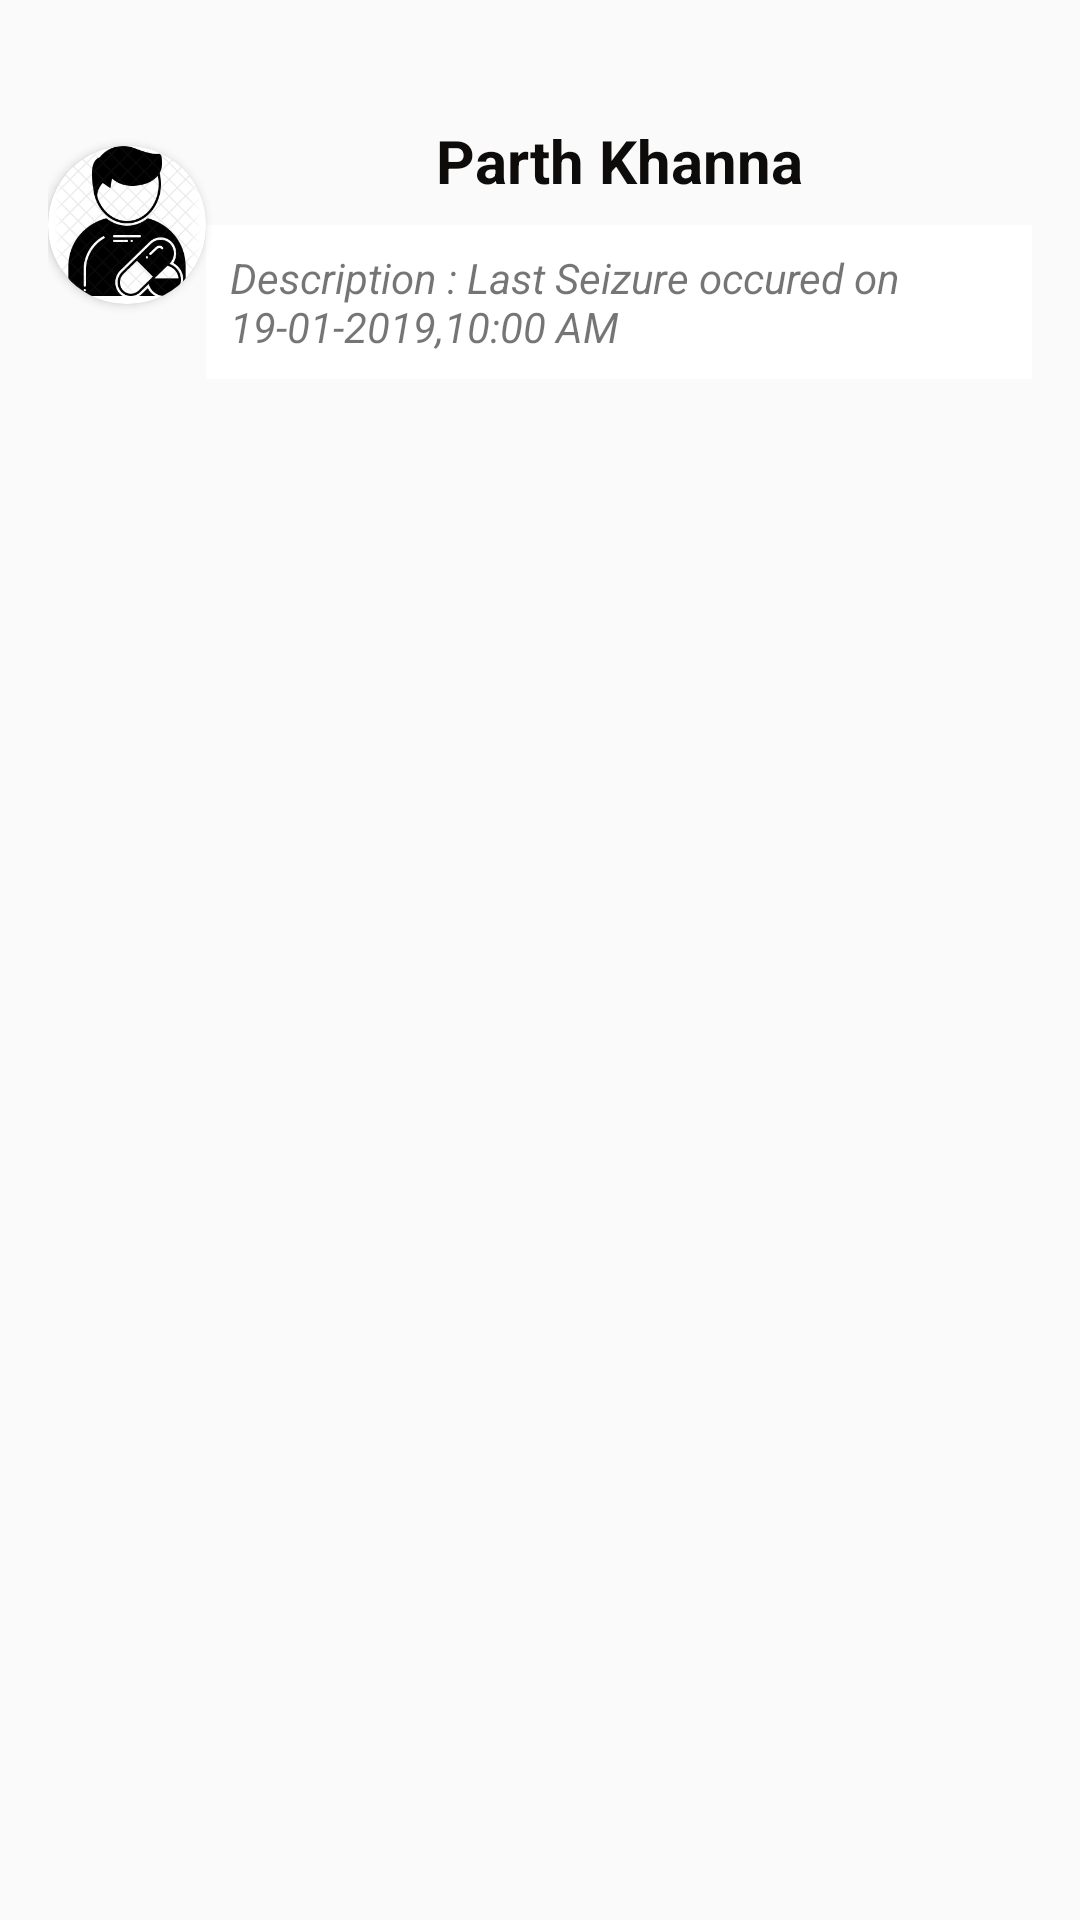

Named icons in this screenshot (1080w x 1920h) and their centers, point (x, y):
patienticon: point (119, 221)
